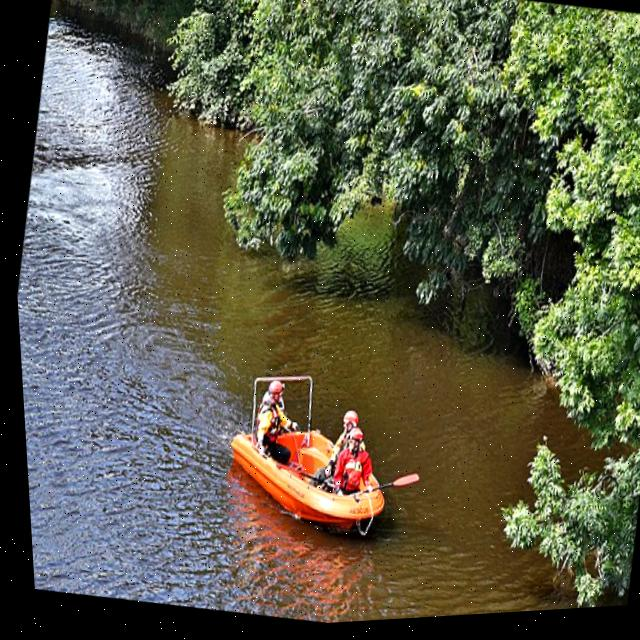rescuer: (244, 372, 312, 473), (306, 398, 366, 493), (324, 422, 382, 504)
